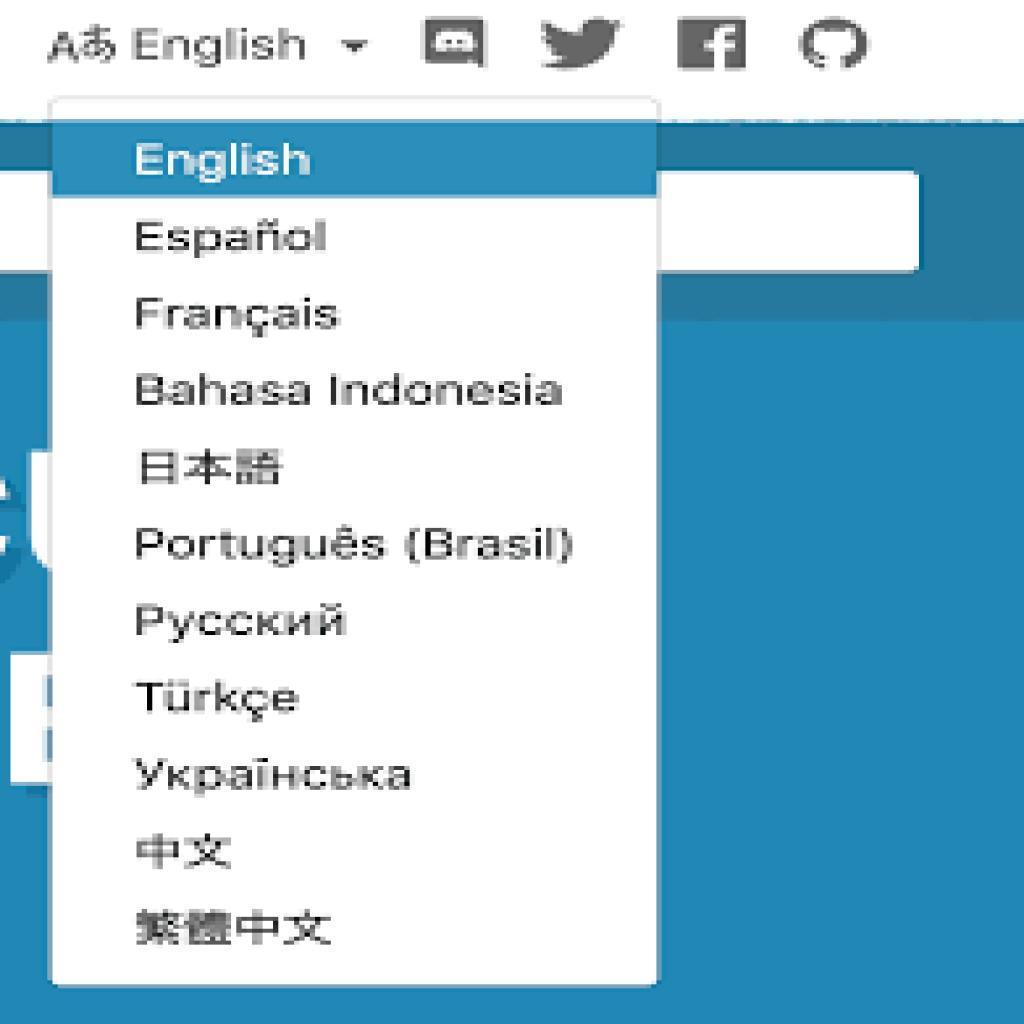icon: (535, 13, 625, 74), (795, 12, 872, 76), (676, 16, 748, 69), (424, 15, 486, 65)
